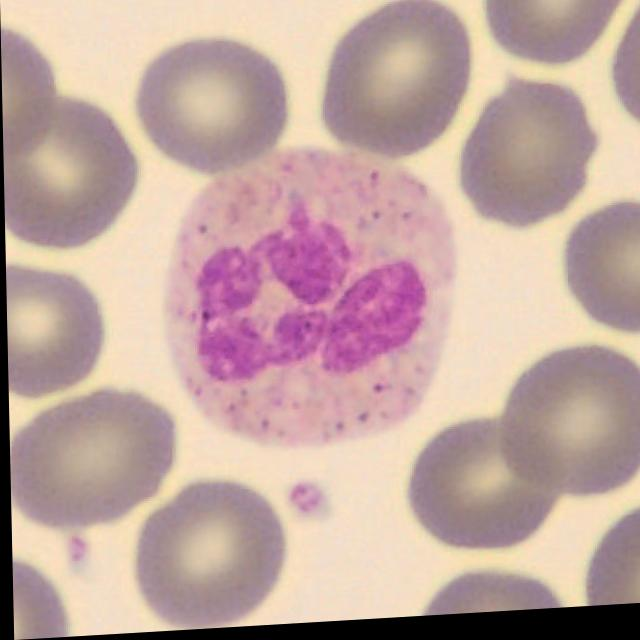Neutrofilo segmentado: (156, 147, 457, 452)
